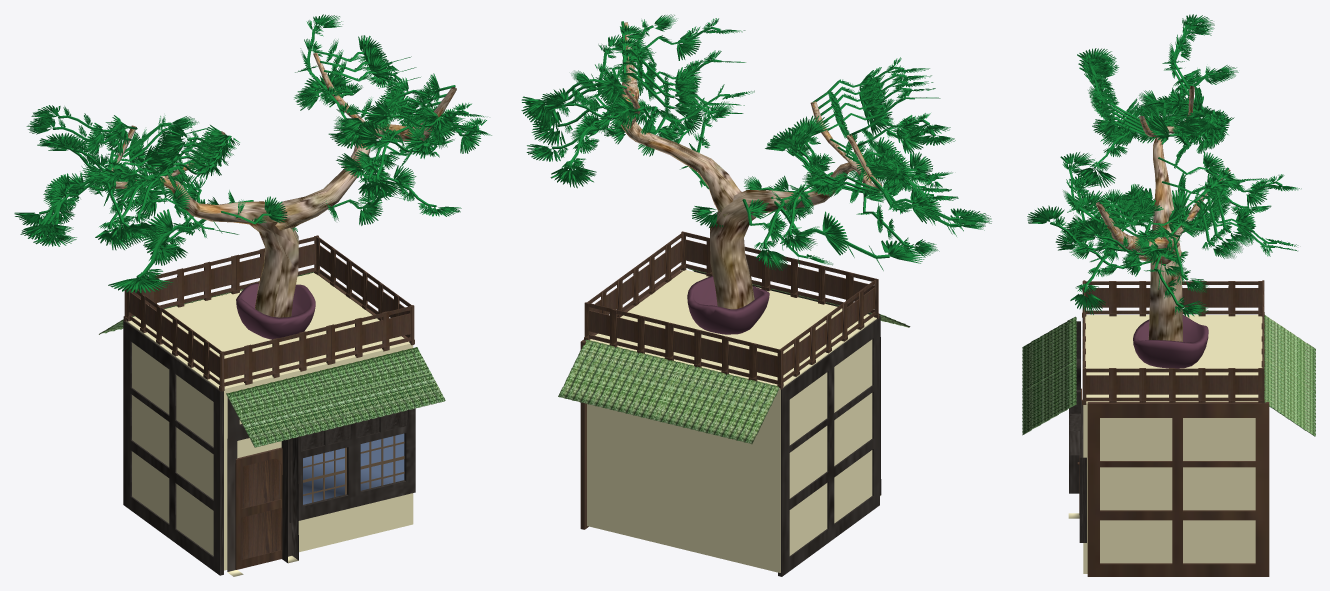
Rendered from 小房间.fbx.
3 views of the same model, side by side, from view 1: azimuth 30°, elevation 25°; view 2: azimuth 150°, elevation 25°; view 3: azimuth 270°, elevation 25° (orthographic). The views are drawn at different scales.
Parts seen in each view (by area): view 1: 盆栽支撑; view 2: 盆栽支撑; view 3: 盆栽支撑.
Boxes of the visible parts, bbox=[...] form: 盆栽支撑: bbox=[14, 14, 491, 576]; 盆栽支撑: bbox=[521, 14, 991, 576]; 盆栽支撑: bbox=[1022, 14, 1315, 576].
Bounding box in the file's own units: 2052 × 1999 × 1252.
